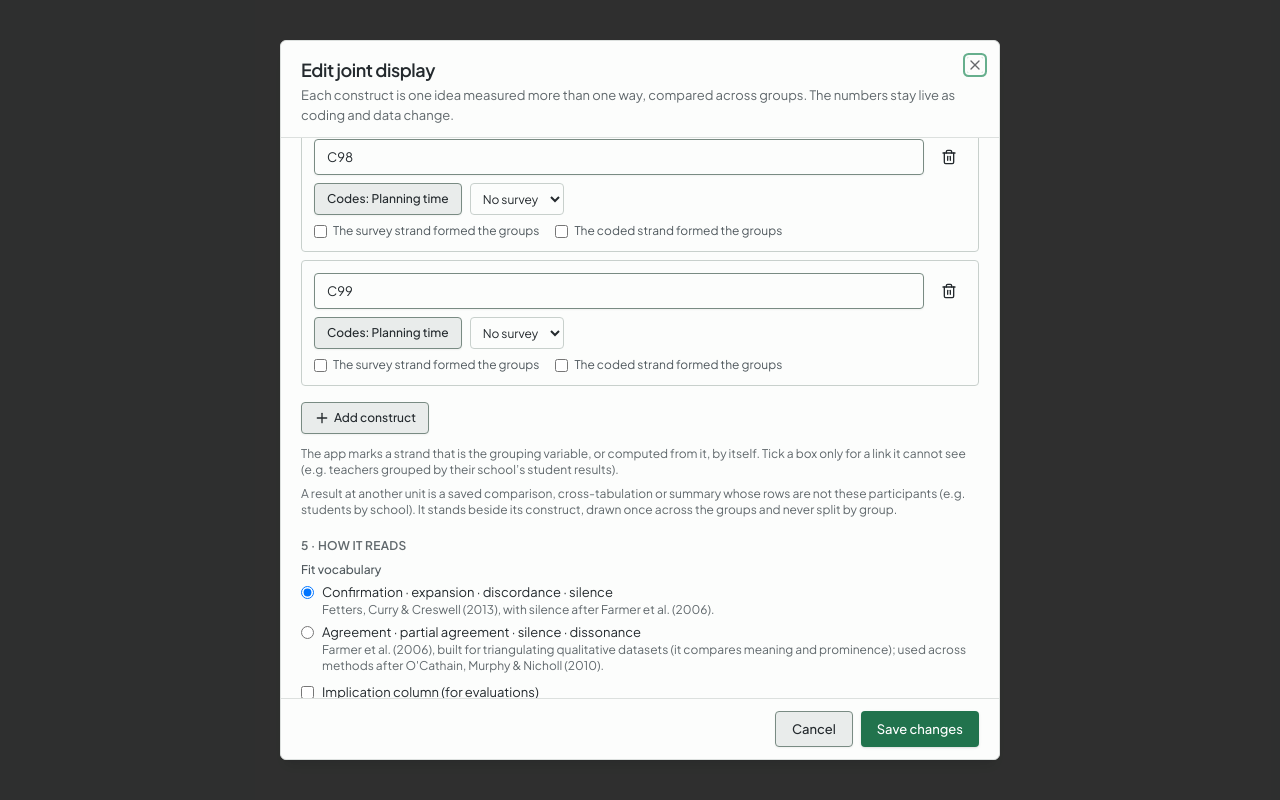
Test case: #1644 review — the builder mirrors the server where a person can reach its bound › r3-3: at the server’s 100 constructs, Add construct stops and says why — and removing one frees it
(page scrolled)
Click the button "Add construct": (365, 418) x1=301 y1=402 x2=429 y2=434
(page scrolled)
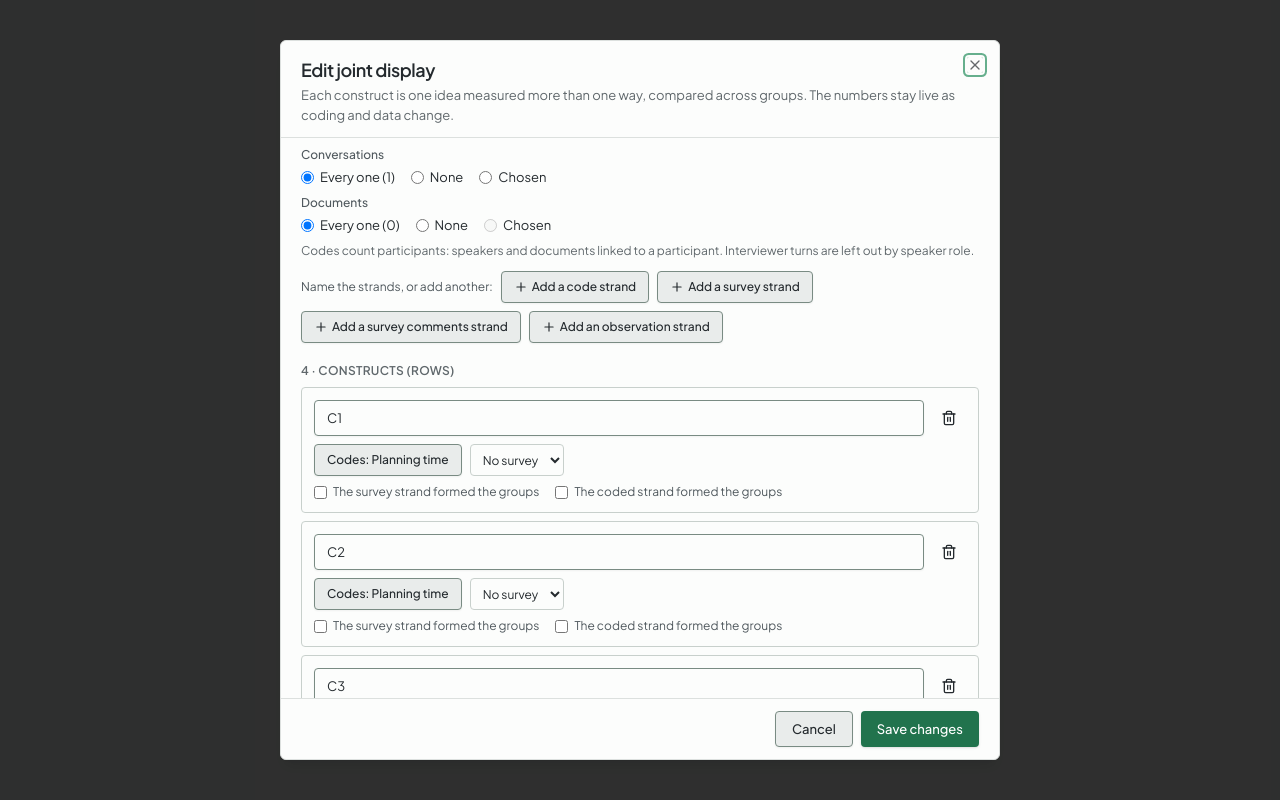
expect the number of buttons named "Remove construct " is 100: met
Click the button named "Remove construct C1": (949, 418) x1=932 y1=400 x2=966 y2=436
(page scrolled)
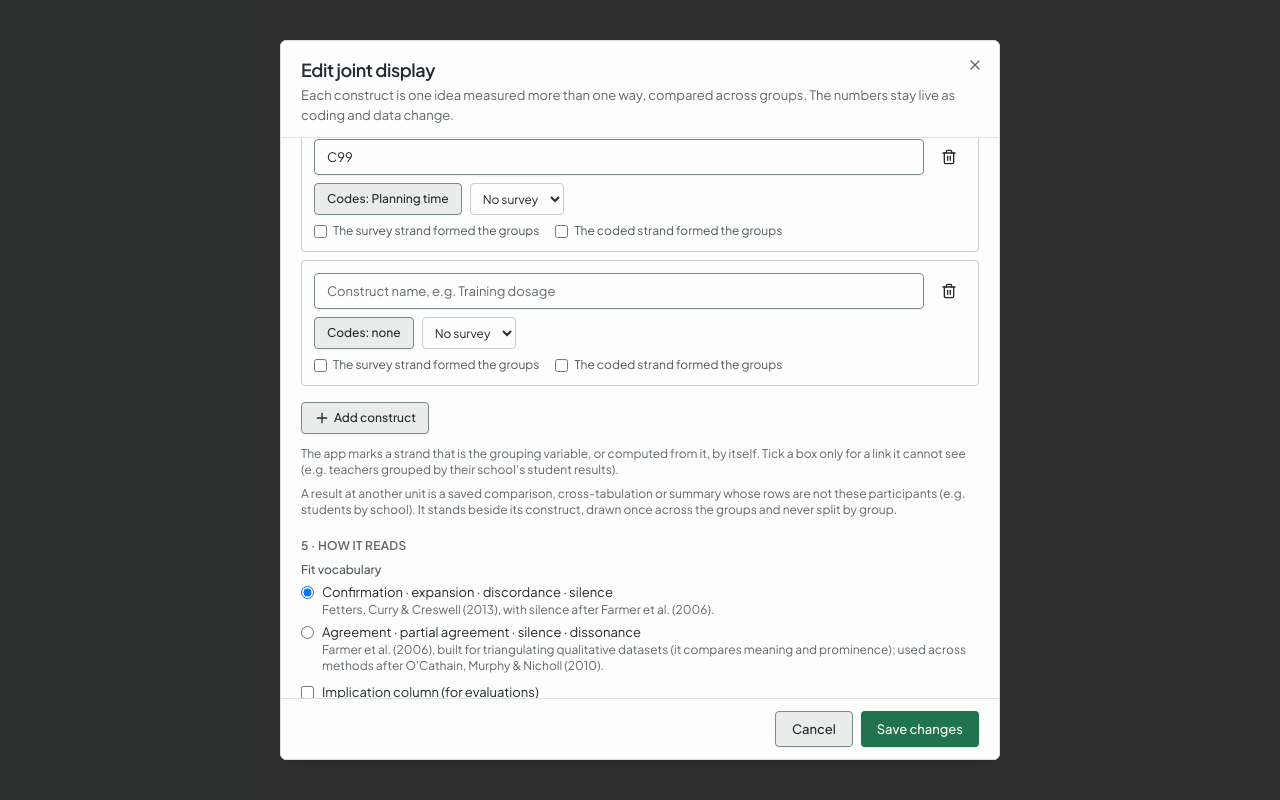
expect the button "Add construct" is enabled: met, box x1=301 y1=402 x2=429 y2=434
